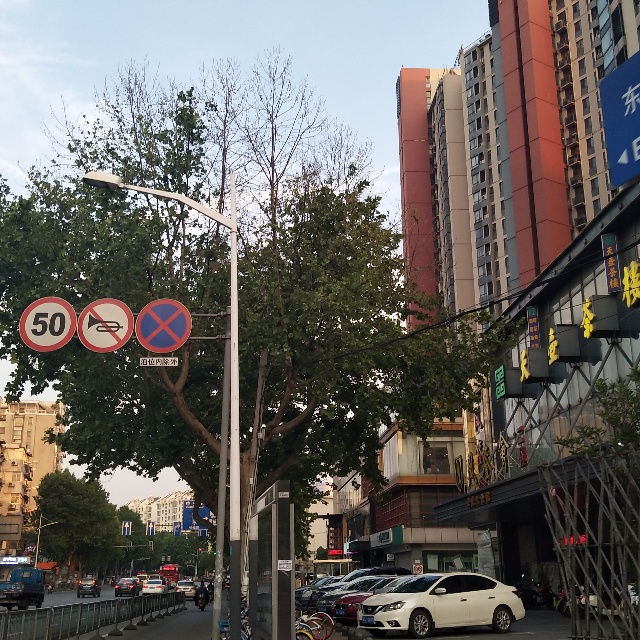nohonk: (82, 298, 131, 347)
stop: (141, 296, 188, 351)
